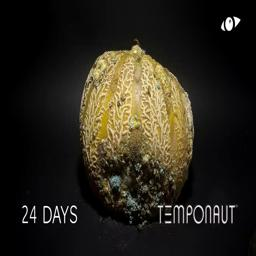Melon Rotten: (76, 39, 193, 227)
